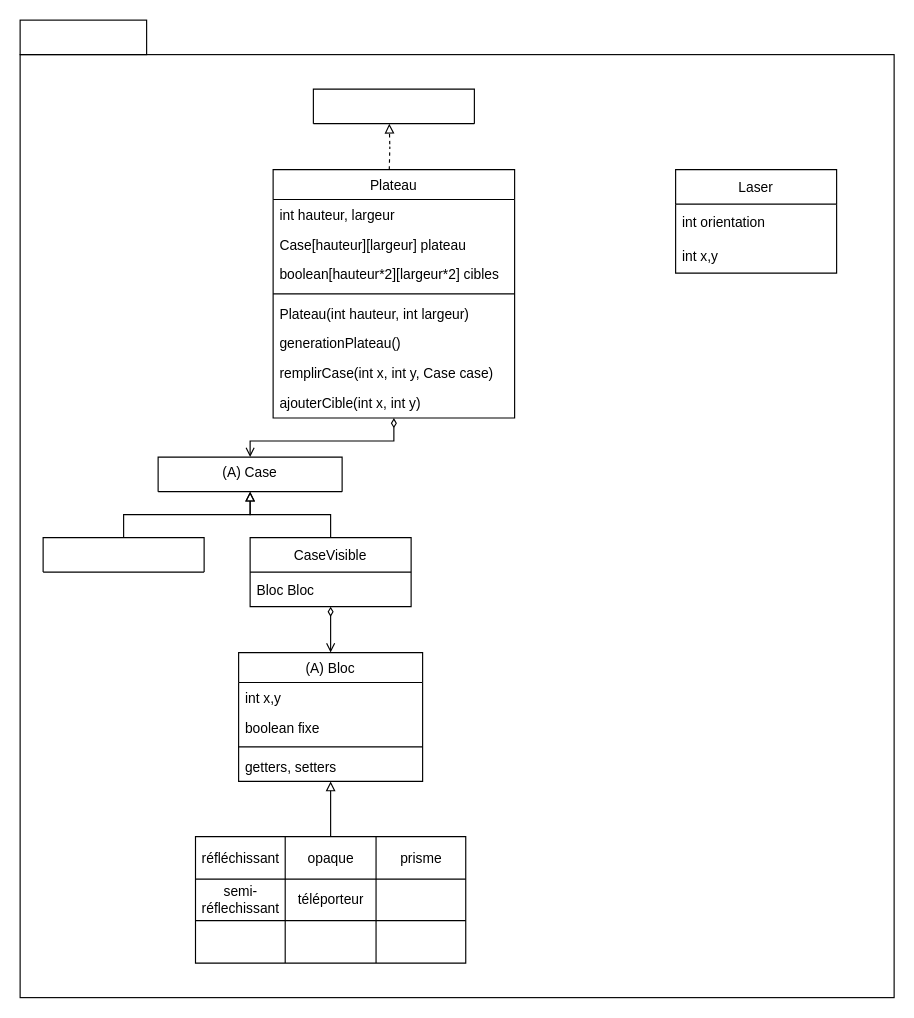
Some shapes in this 914 by 1018 pixel diagram are drawn without their labels. Here are the shapes that lost their labels. From the top down, the centre of each, then its label:
At (x=83, y=37): "Modèle".
At (x=393, y=106): "(I) Serializable".
At (x=123, y=554): "CaseCachee".
